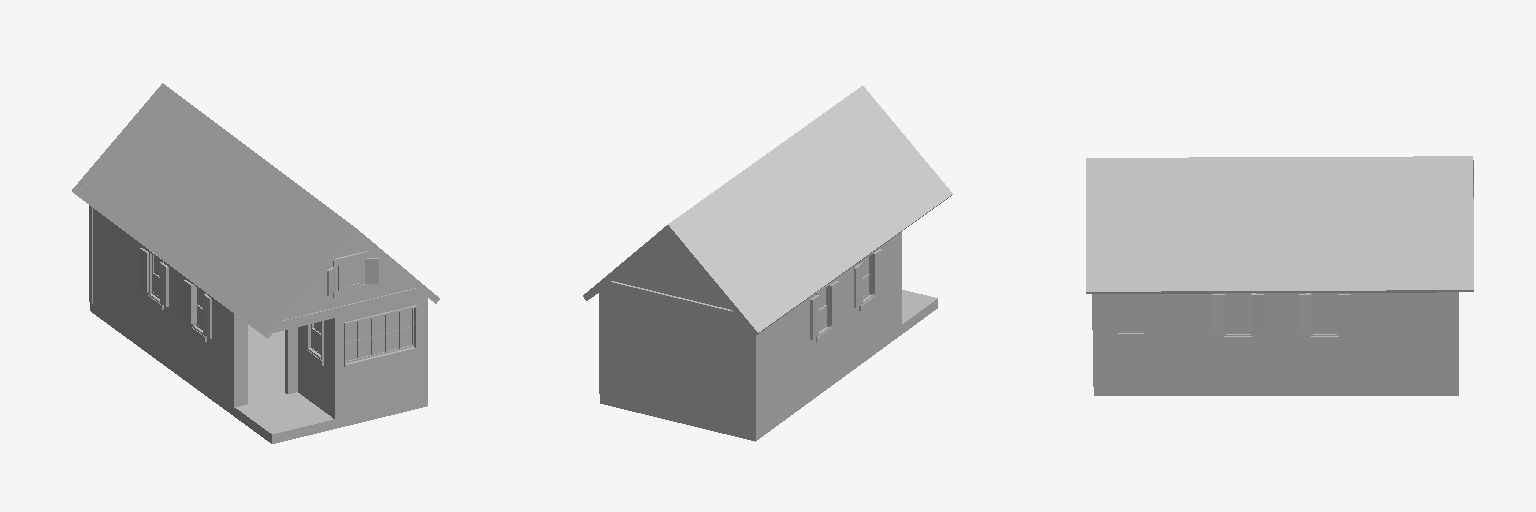
The model's file is Casa_Blanca.obj.
3 renders of one model, left to right at view 1: azimuth 30°, elevation 25°; view 2: azimuth 150°, elevation 25°; view 3: azimuth 270°, elevation 25°, orthographic.
Parts seen in each view (by area): view 1: Casa, Techo, Vistas, Ventanas, Ventana; view 2: Casa, Techo, Vistas, Ventanas; view 3: Techo, Casa, Ventanas, Vistas.
Boxes of the visible parts, x1,y1,x2,y2 form: Casa: [87, 184, 427, 443]; Techo: [72, 83, 439, 338]; Vistas: [140, 248, 378, 338]; Ventanas: [152, 254, 320, 354]; Ventana: [338, 260, 362, 290]; Casa: [599, 232, 937, 441]; Techo: [583, 86, 952, 336]; Vistas: [810, 249, 881, 339]; Ventanas: [818, 256, 869, 331]; Techo: [1086, 156, 1473, 293]; Casa: [1092, 292, 1458, 395]; Ventanas: [1118, 293, 1336, 333]; Vistas: [1212, 293, 1350, 333].
Size of the model in its own units: 8.39 by 9.17 by 15.92.